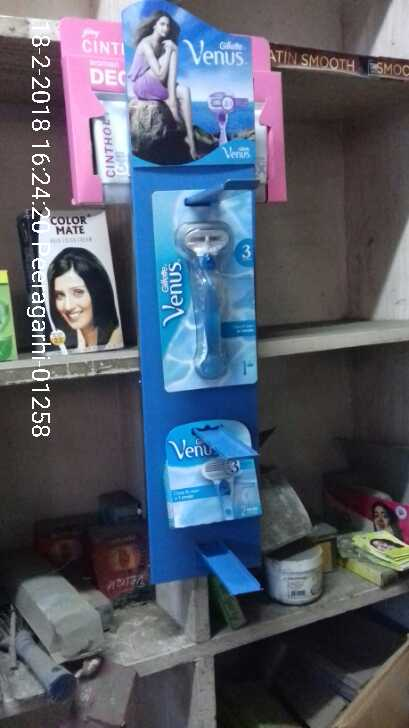venus: (149, 186, 263, 395), (162, 419, 270, 528)
